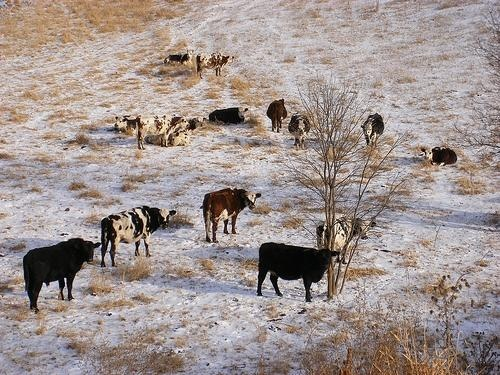cow: (23, 238, 101, 314), (257, 243, 340, 302), (100, 207, 176, 267), (203, 188, 262, 242), (317, 219, 372, 262), (137, 116, 186, 149), (196, 53, 235, 79), (362, 113, 386, 146), (210, 107, 251, 125), (420, 148, 458, 167), (291, 111, 309, 151), (267, 100, 288, 134), (165, 49, 195, 67)
